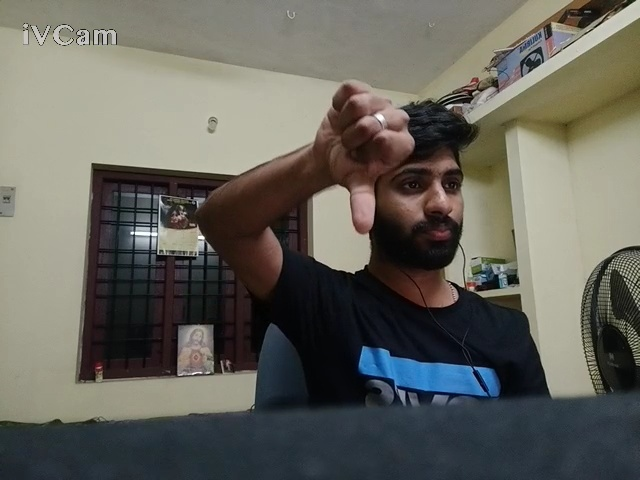No: (259, 72, 437, 250)
